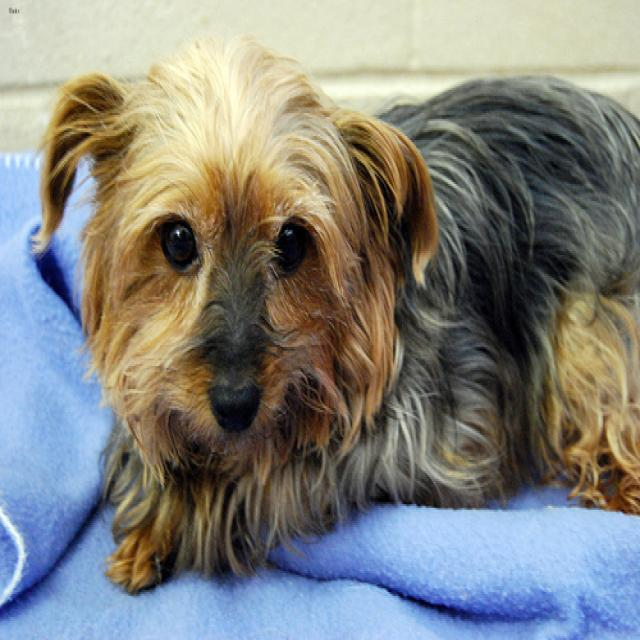dog-yorkshire_terrier: (20, 38, 637, 607)
